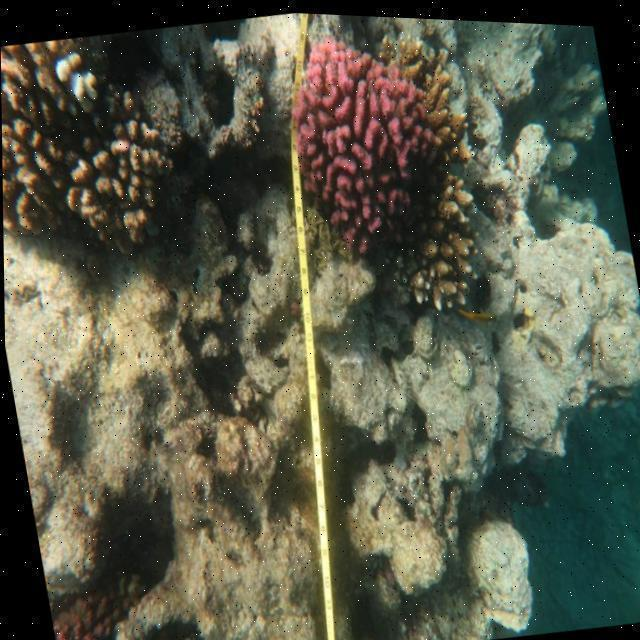Bleached Coral: (47, 46, 104, 111)
Healthy Coral: (285, 20, 481, 312), (49, 115, 172, 261), (1, 43, 56, 238), (48, 585, 195, 640)
